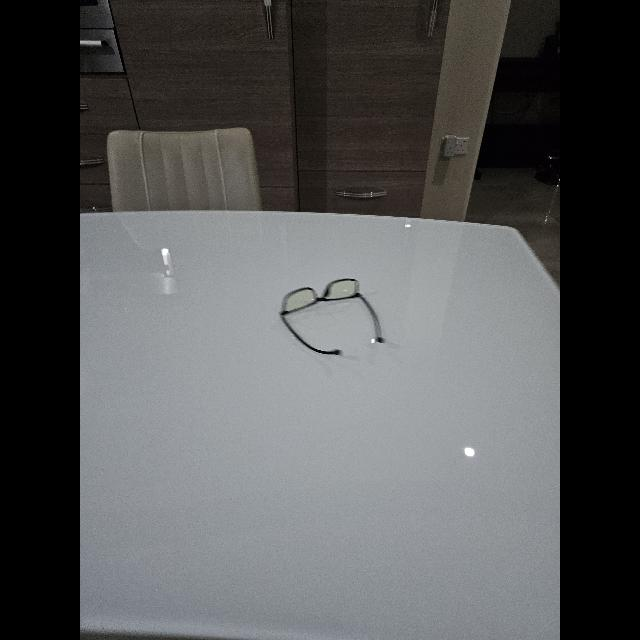glasses: (280, 279, 384, 355)
